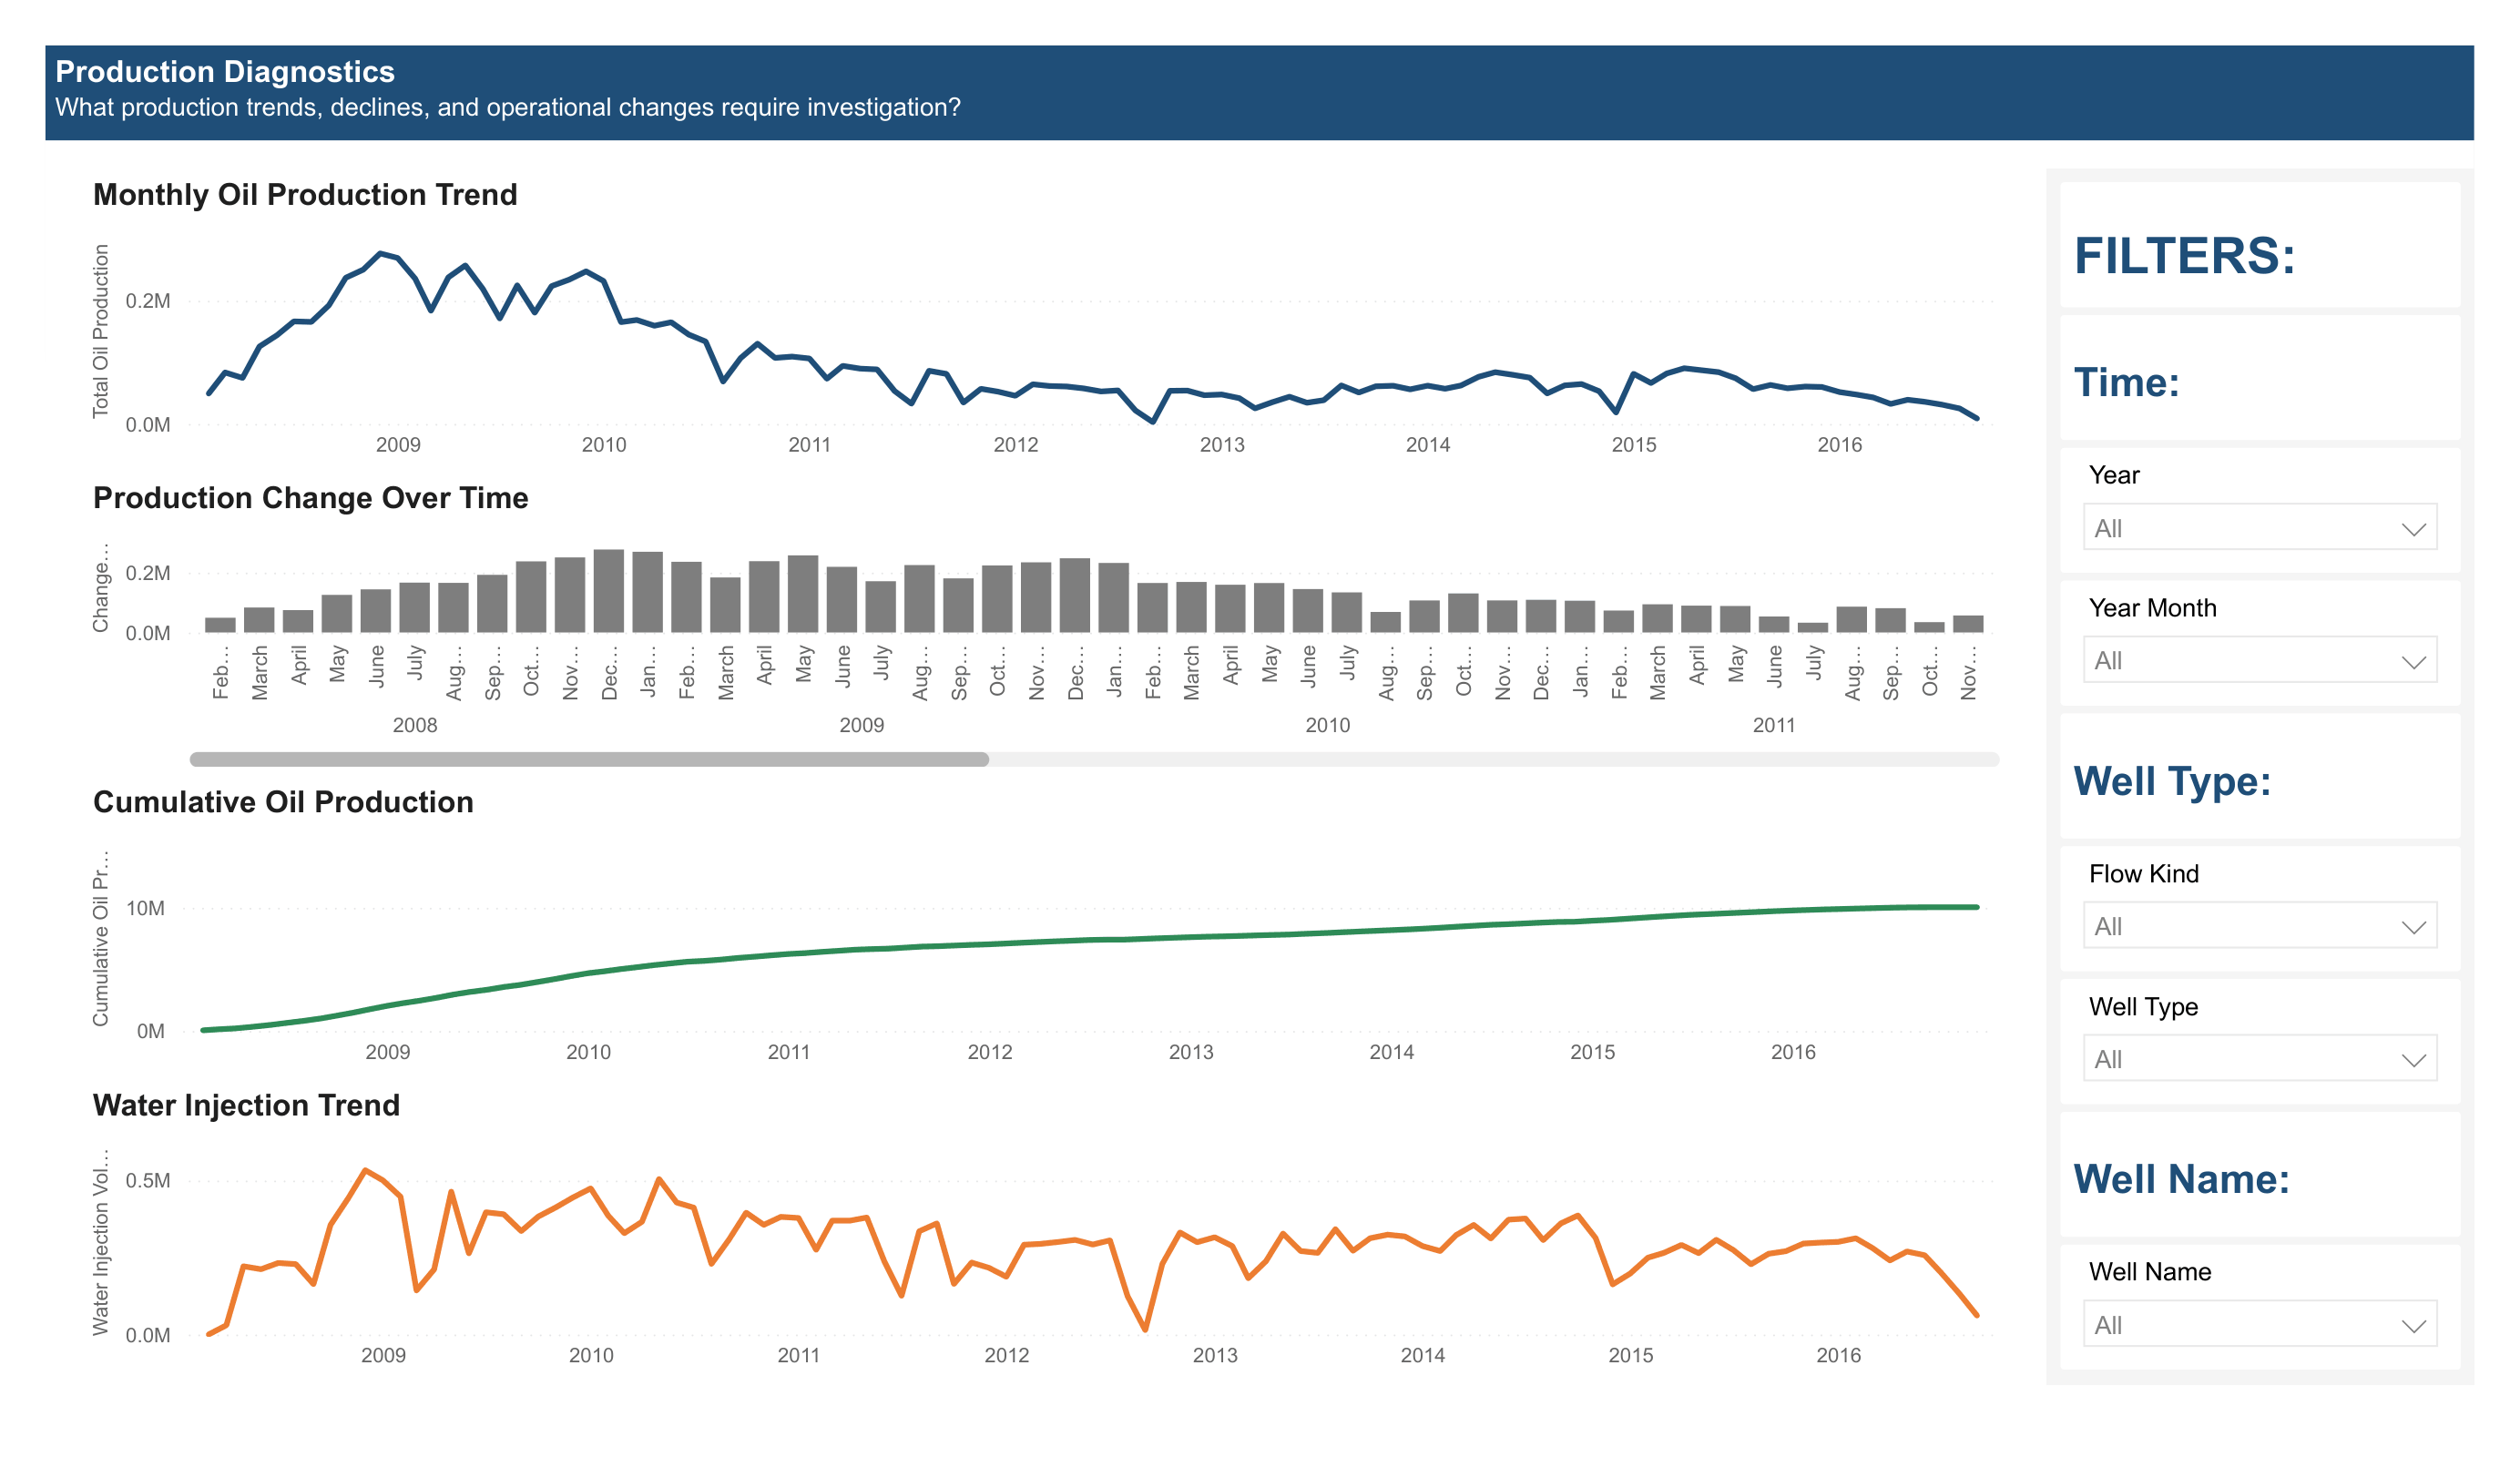

Layout of this report page (visuals, bound fields, positions):
{"tool":"powerbi","page":{"name":"Production Diagnostics","canvas":[1280,720],"ordinal":2},"visuals":[{"type":"clusteredColumnChart","title":"Production Change Over Time","fields":{"Y":["fact_production.MoM Oil Change"],"Category":["dim_date.year_month.Variation.Date Hierarchy.Year","dim_date.year_month.Variation.Date Hierarchy.Month"]},"box":[20,230,1015,155],"z":0},{"type":"lineChart","title":"Cumulative Oil Production","fields":{"Category":["dim_date.year_month.Variation.Date Hierarchy.Year","dim_date.year_month.Variation.Date Hierarchy.Quarter","dim_date.year_month.Variation.Date Hierarchy.Month","dim_date.year_month.Variation.Date Hierarchy.Day"],"Y":["fact_production.Cumulative Oil Production"]},"box":[20,390,1015,155],"z":1000},{"type":"lineChart","title":"Water Injection Trend","fields":{"Category":["dim_date.year_month.Variation.Date Hierarchy.Year","dim_date.year_month.Variation.Date Hierarchy.Quarter","dim_date.year_month.Variation.Date Hierarchy.Month","dim_date.year_month.Variation.Date Hierarchy.Day"],"Y":["fact_production.Total Water Injection"]},"box":[20,550,1015,155],"z":2000},{"type":"textbox","box":[0,0,1280.3,50],"z":3000},{"type":"lineChart","title":"Monthly Oil Production Trend","fields":{"Y":["fact_production.Total Oil Production"],"Category":["dim_date.year_month.Variation.Date Hierarchy.Year","dim_date.year_month.Variation.Date Hierarchy.Quarter","dim_date.year_month.Variation.Date Hierarchy.Month","dim_date.year_month.Variation.Date Hierarchy.Day"]},"box":[20,70,1015,155],"z":4000},{"type":"shape","box":[1055,65,225,640.8],"z":5000},{"type":"slicer","fields":{"Values":["dim_date.year"]},"box":[1060,210,215,70],"z":6000},{"type":"slicer","fields":{"Values":["fact_production.flow_kind"]},"box":[1060,420,215,70],"z":7000},{"type":"slicer","fields":{"Values":["fact_production.well_type"]},"box":[1060,490,215,70],"z":8000},{"type":"slicer","fields":{"Values":["dim_well.well_name"]},"box":[1060,630,215,70],"z":9000},{"type":"textbox","box":[1060,70,215,70],"z":10000},{"type":"textbox","box":[1060,140,215,70],"z":11000},{"type":"slicer","fields":{"Values":["dim_date.Year Month Text"]},"box":[1060,280,215,70],"z":12000},{"type":"textbox","box":[1060,350,215,70],"z":13000},{"type":"textbox","box":[1060,560,215,70],"z":14000}]}

Visuals, with their boxes on the page's 1280x720 design canvas (x1, y1, x2, y2). These are canvas units, not pixel positions in the 2520x1457 screenshot, which may show the page scaled, cropped or inside an application window:
"Production Change Over Time" clusteredColumnChart: (x1=20, y1=230, x2=1035, y2=385)
"Cumulative Oil Production" lineChart: (x1=20, y1=390, x2=1035, y2=545)
"Water Injection Trend" lineChart: (x1=20, y1=550, x2=1035, y2=705)
textbox: (x1=0, y1=0, x2=1280, y2=50)
"Monthly Oil Production Trend" lineChart: (x1=20, y1=70, x2=1035, y2=225)
shape: (x1=1055, y1=65, x2=1280, y2=706)
slicer - dim_date.year: (x1=1060, y1=210, x2=1275, y2=280)
slicer - fact_production.flow_kind: (x1=1060, y1=420, x2=1275, y2=490)
slicer - fact_production.well_type: (x1=1060, y1=490, x2=1275, y2=560)
slicer - dim_well.well_name: (x1=1060, y1=630, x2=1275, y2=700)
textbox: (x1=1060, y1=70, x2=1275, y2=140)
textbox: (x1=1060, y1=140, x2=1275, y2=210)
slicer - dim_date.Year Month Text: (x1=1060, y1=280, x2=1275, y2=350)
textbox: (x1=1060, y1=350, x2=1275, y2=420)
textbox: (x1=1060, y1=560, x2=1275, y2=630)
